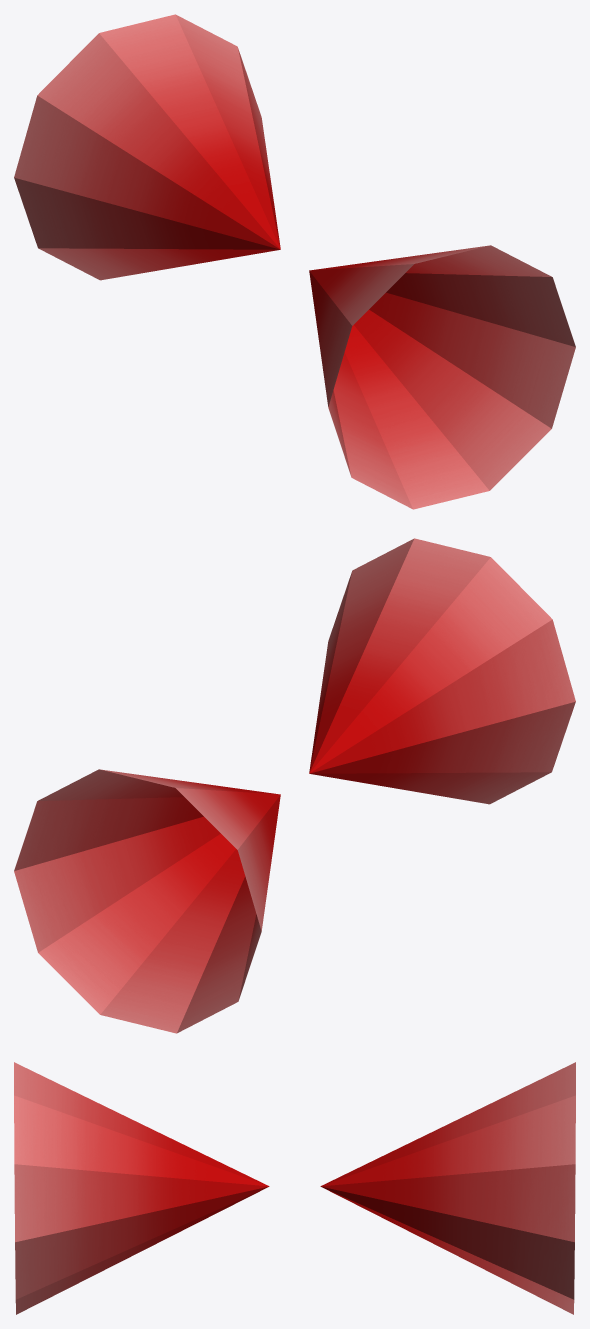
Rendered from siren.fbx.
The picture shows the model from 3 angles, top to bottom: view 1: azimuth 30°, elevation 25°; view 2: azimuth 150°, elevation 25°; view 3: azimuth 270°, elevation 25°; orthographic projection. The views are drawn at different scales.
Parts seen in each view (by area): view 1: polySurface1; view 2: polySurface1; view 3: polySurface1.
Boxes of the visible parts, x1,y1,x2,y2 form: polySurface1: [14, 14, 575, 509]; polySurface1: [14, 538, 575, 1033]; polySurface1: [14, 1062, 575, 1314].
Size of the model in its own units: 12.96 by 12.32 by 28.58.
